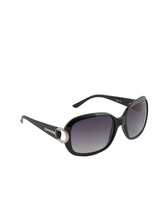glasses: (13, 93, 151, 157)
